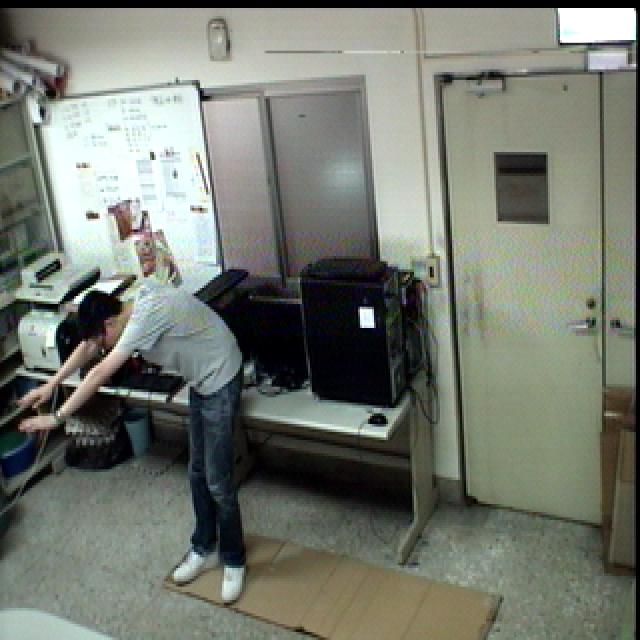bend: (16, 284, 268, 609)
